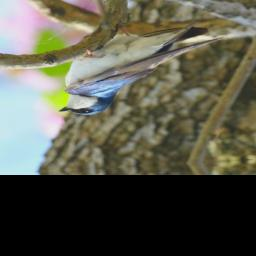Swallow: (49, 15, 233, 117)
